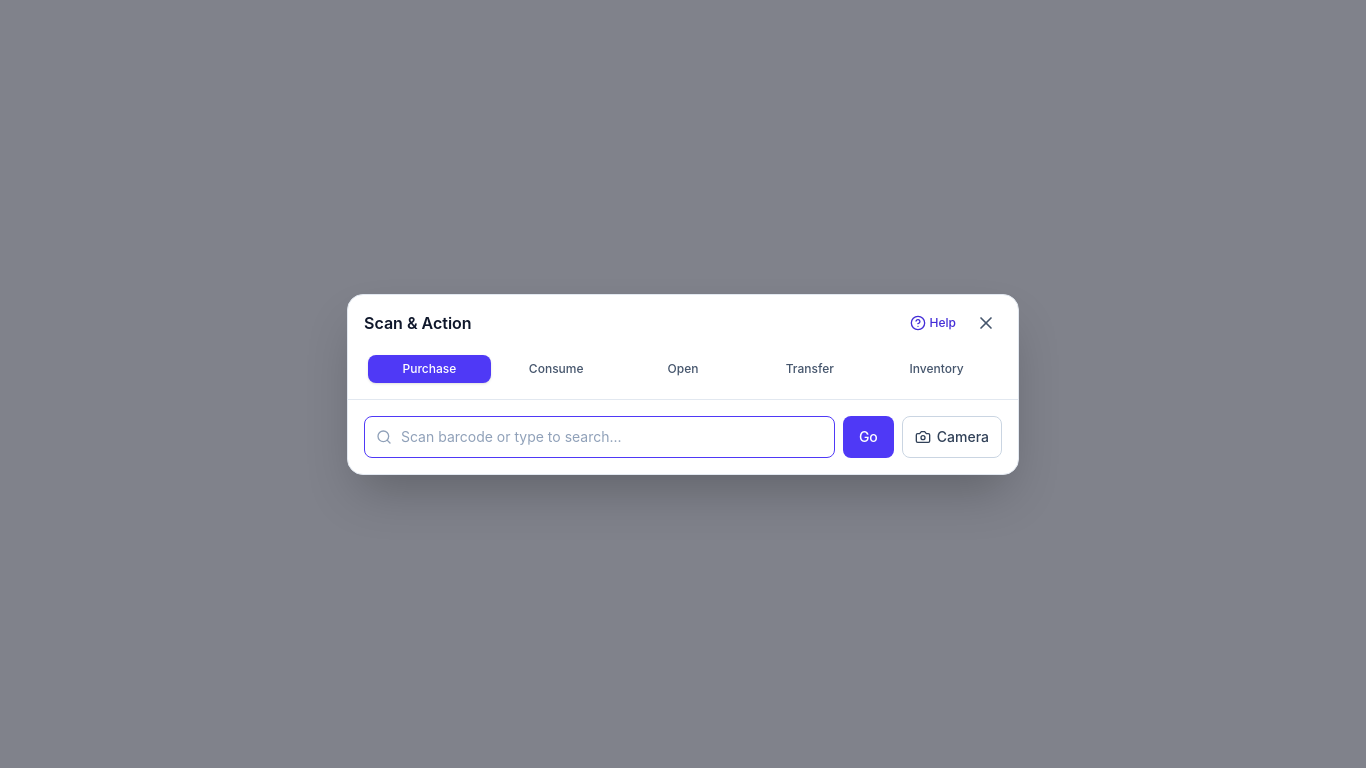
Test: BarcodeScanner and ScannerDrawer › switches modes without unmounting scanner and runs Consume + Undo toast
// Switch mode to Consume
Click the button "Consume": (556, 368) [495,354,618,382]
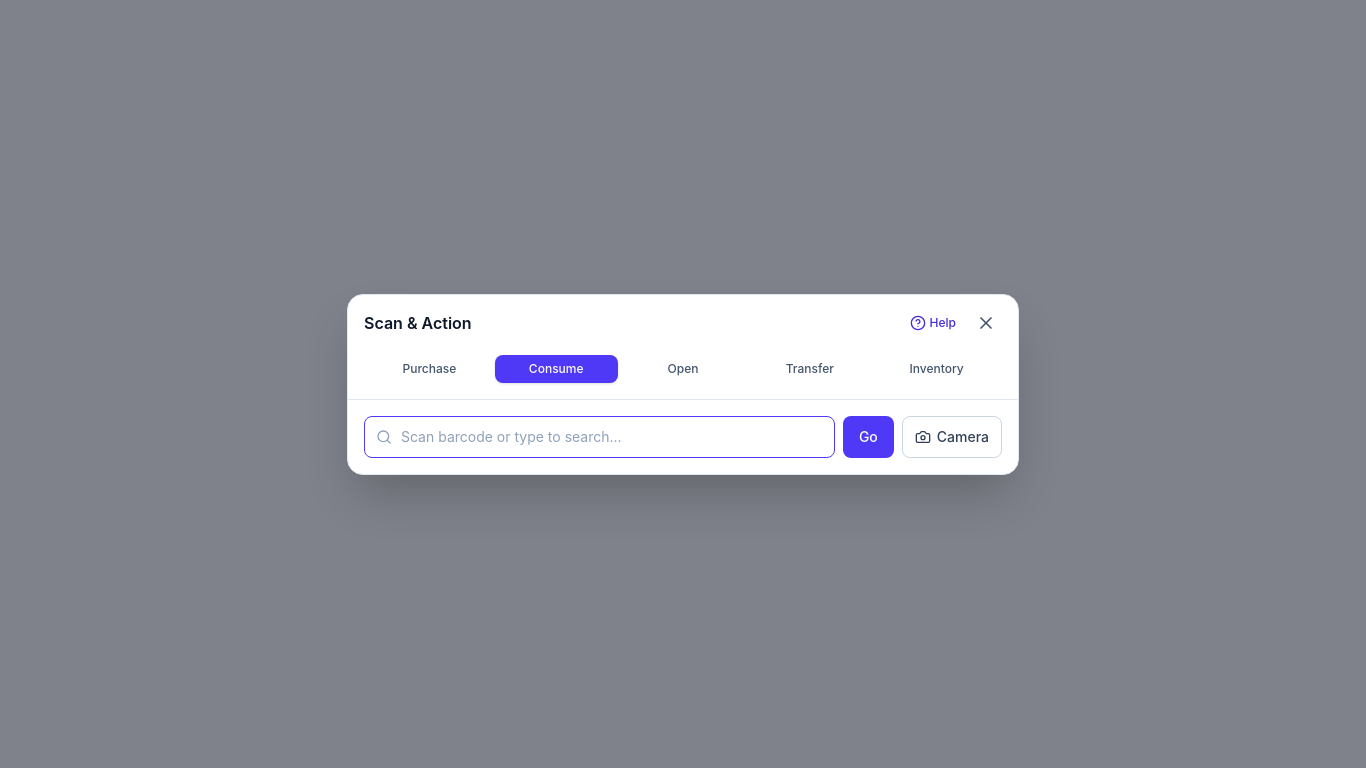
In the field named "Barcode or search input": (599, 436) [364,416,835,458], type "https://my.itemizedapp.com/go/i/10"
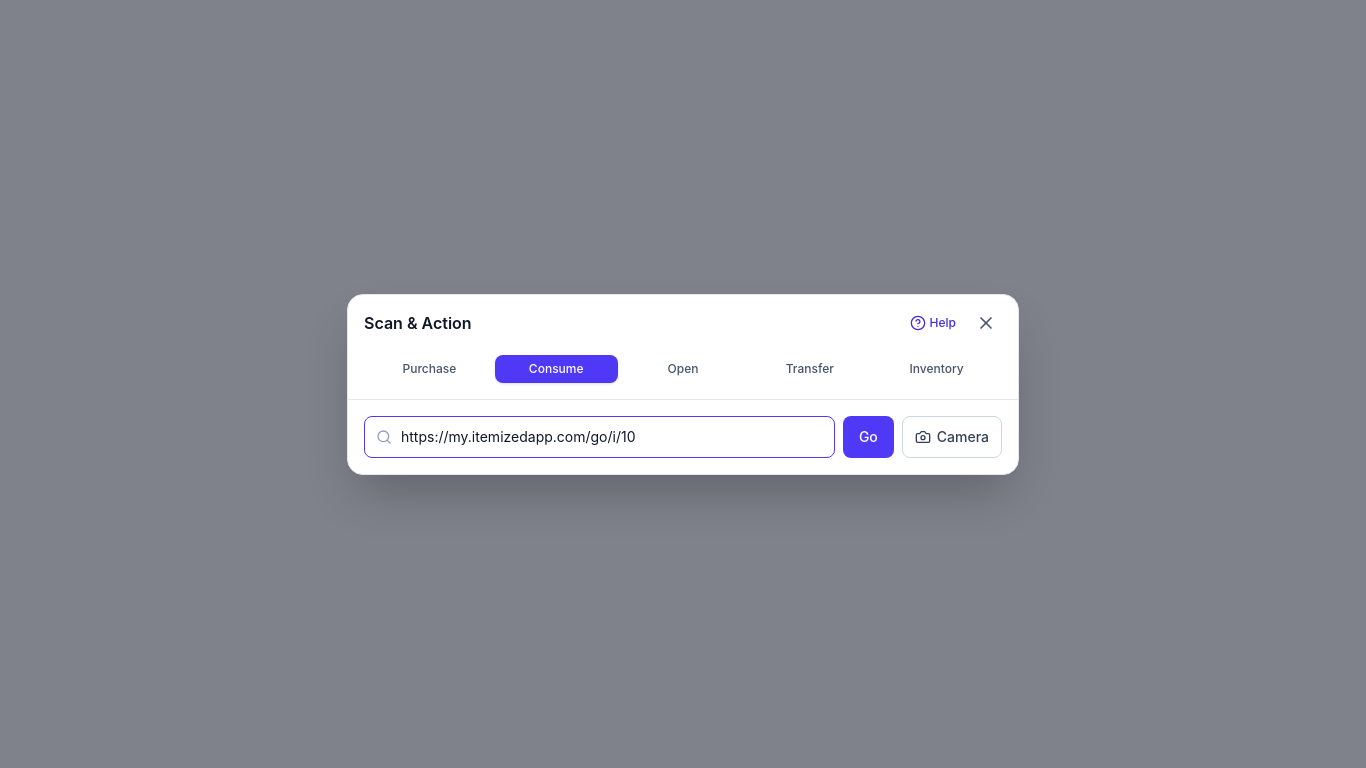
Submit the form named "Barcode or search input", box [364,416,1002,458]
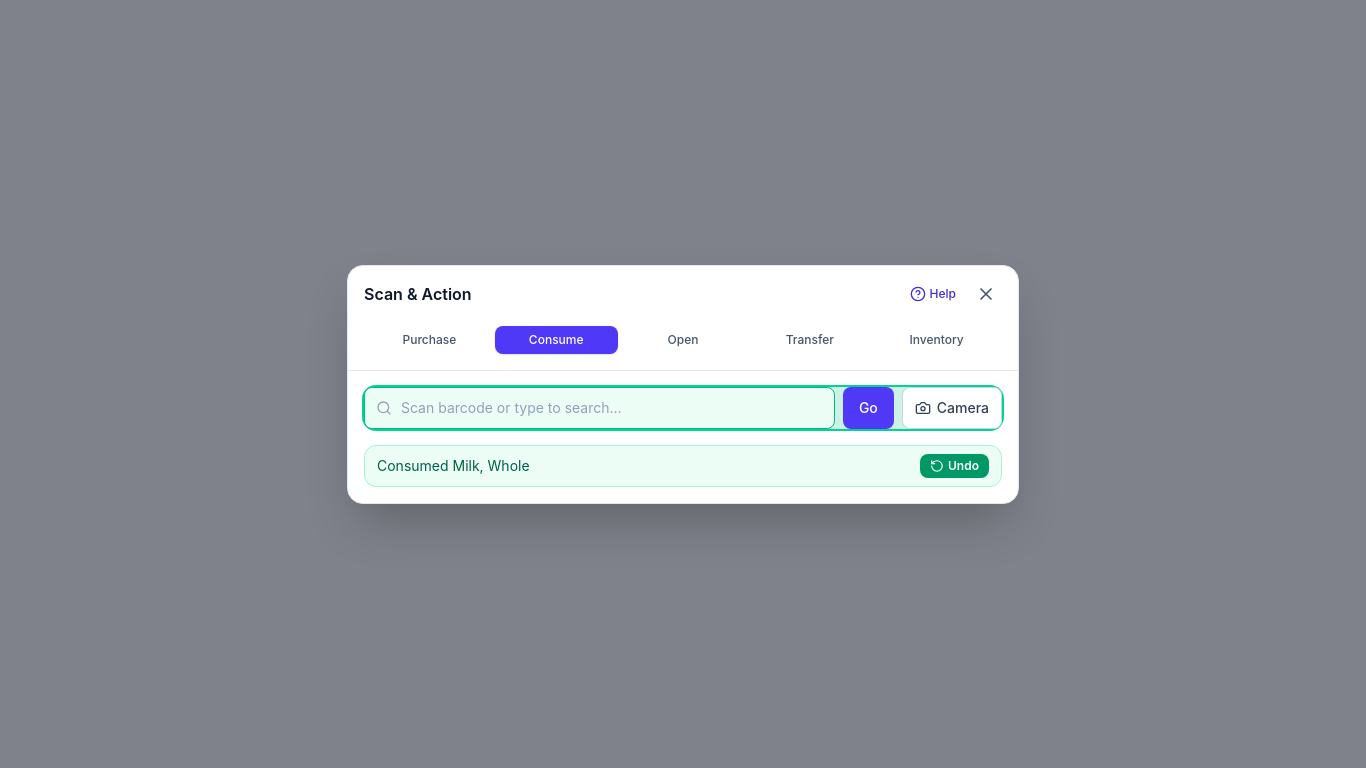
expect the text "Consumed Milk, Whole" is shown: met, box [377,456,530,476]
// Verify Undo toast appears and clicking Undo issues PATCH
Click the button "Undo": (954, 466) [920,454,989,478]
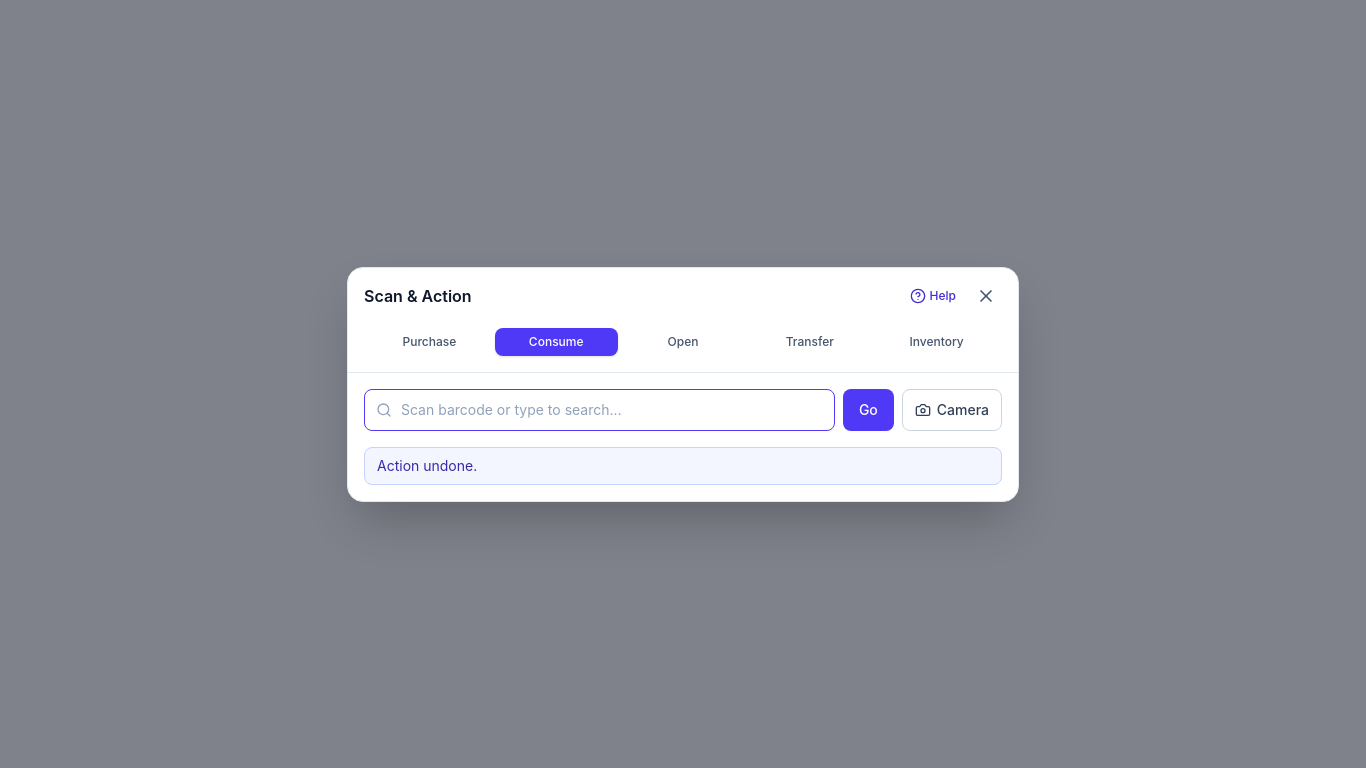
expect the text "Action undone." is shown: met, box [364,446,1002,484]
